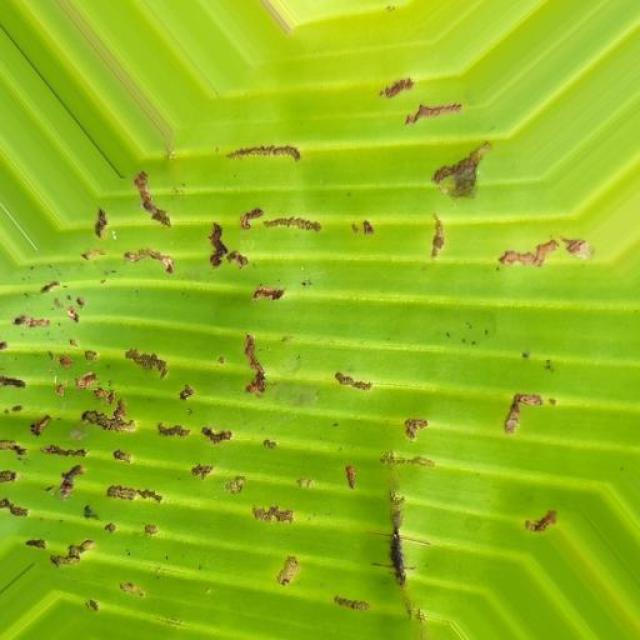Black_rot: (0, 64, 638, 639)
